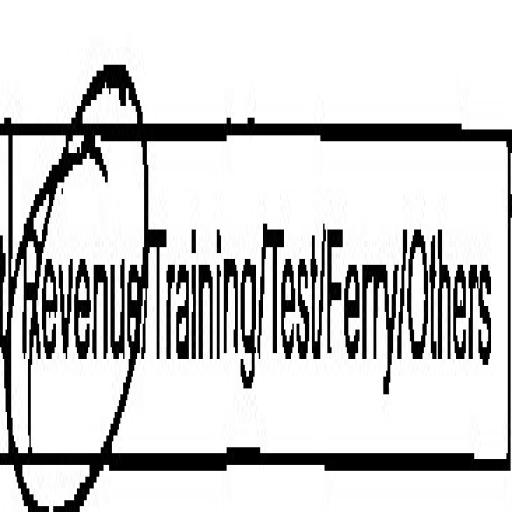check: (6, 33, 150, 512)
